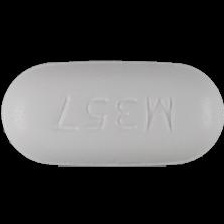16590-113: (0, 0, 224, 224)
